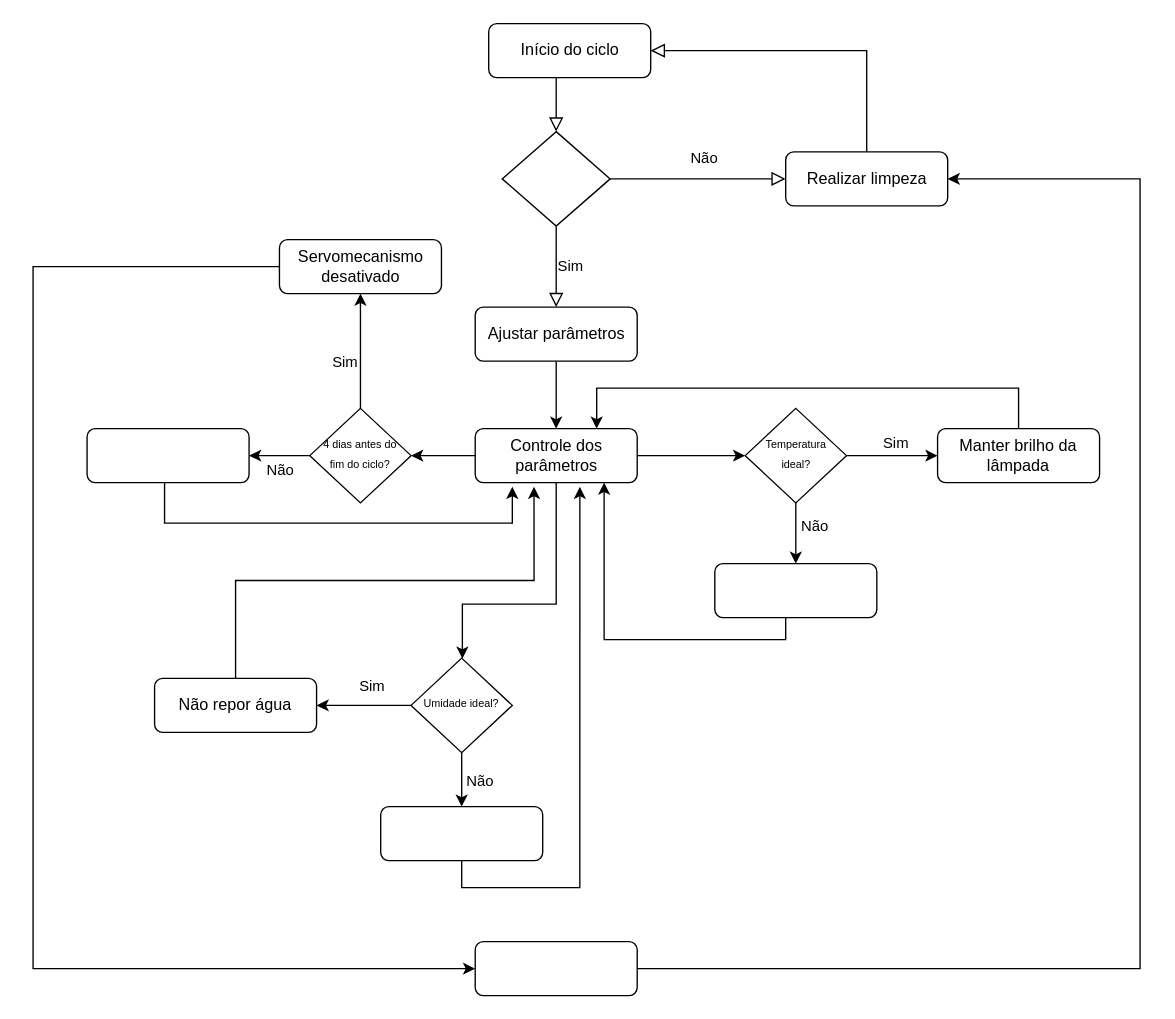
This 1175x1019 diagram has some shape labels left out. The box of each missing label's shape, as (x1, y1, x2, y2) in pixels:
Aumentar brilho da lâmpada: (713, 562, 877, 618)
Nascimento e fim do ciclo: (474, 940, 637, 996)
Ovos inseridos?: (501, 130, 610, 226)
Repor água: (379, 805, 543, 861)
Servomecanismo ativo: (86, 427, 249, 483)
